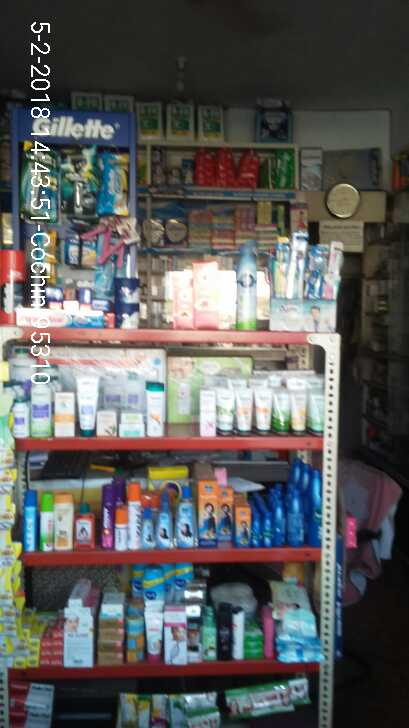beauty: (57, 145, 100, 216), (99, 155, 132, 214)
home: (235, 237, 260, 333)
